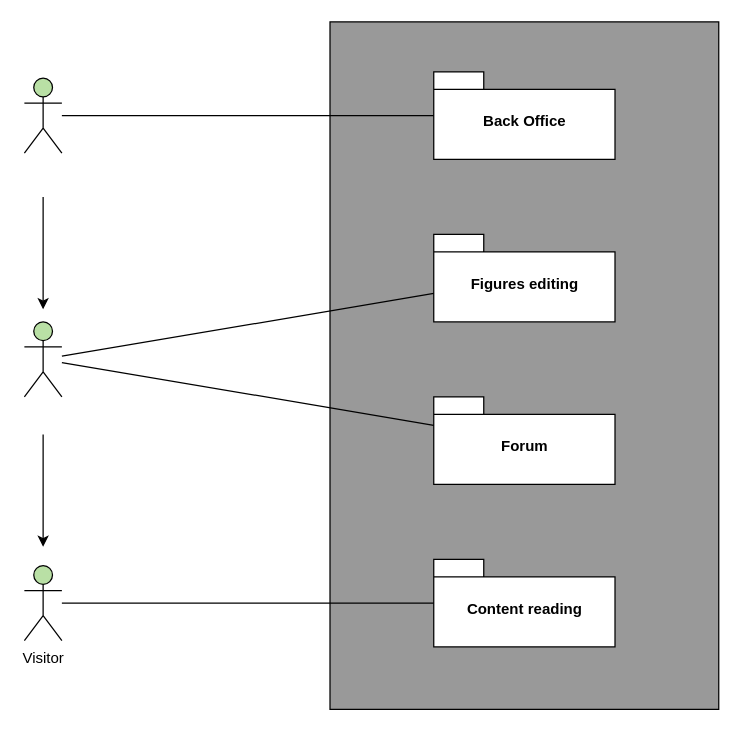
The diagram is 741 pixels wide and 731 high, and some of its shapes have lost their labels. The shapes that lost their labels are listed below. From the top down, each one's centre as x and y in pixels, then its label:
point 42,115: Admin
point 42,359: User
